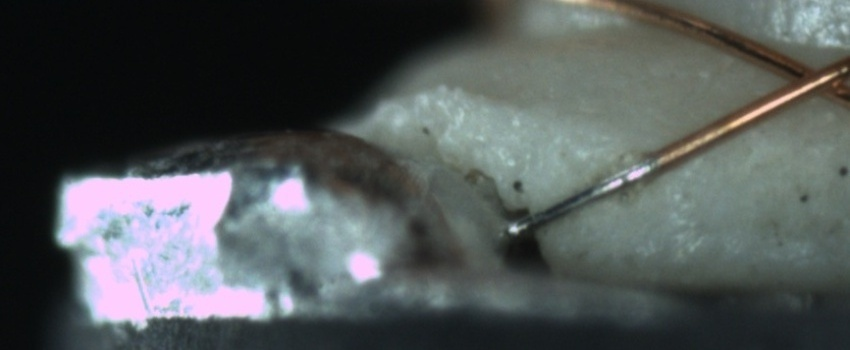CL: (760, 44, 850, 109)
TS: (508, 158, 659, 235)
